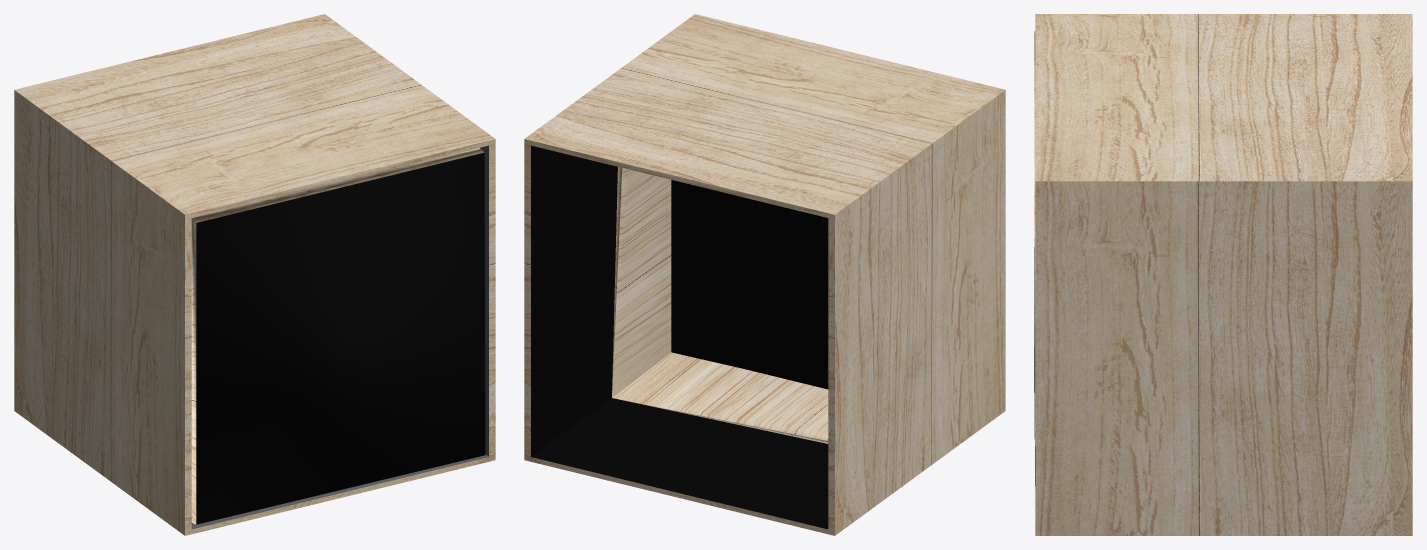
File: frameAmerican_wooden.glb
3 renders of one model, left to right at view 1: azimuth 30°, elevation 25°; view 2: azimuth 150°, elevation 25°; view 3: azimuth 270°, elevation 25°, orthographic. The views are drawn at different scales.
Parts seen in each view (by area): view 1: Material2, A_PaintingMesh, Material3.001; view 2: Material2, Material3.004, Mat, A_PaintingMesh; view 3: Material2, A_PaintingMesh.
Part boxes in pixels (x1,y1,x2,y2): Material2: (14, 14, 495, 535); A_PaintingMesh: (191, 148, 485, 524); Material3.001: (191, 145, 488, 529); Material2: (524, 14, 1005, 535); Material3.004: (531, 145, 828, 529); Mat: (671, 180, 828, 389); A_PaintingMesh: (612, 167, 828, 443); Material2: (1035, 14, 1412, 535); A_PaintingMesh: (1034, 31, 1035, 485).
Size of what is drawn, in the model's own units: 1.07 by 1.05 by 1.02.
6 materials, 2 textured.
